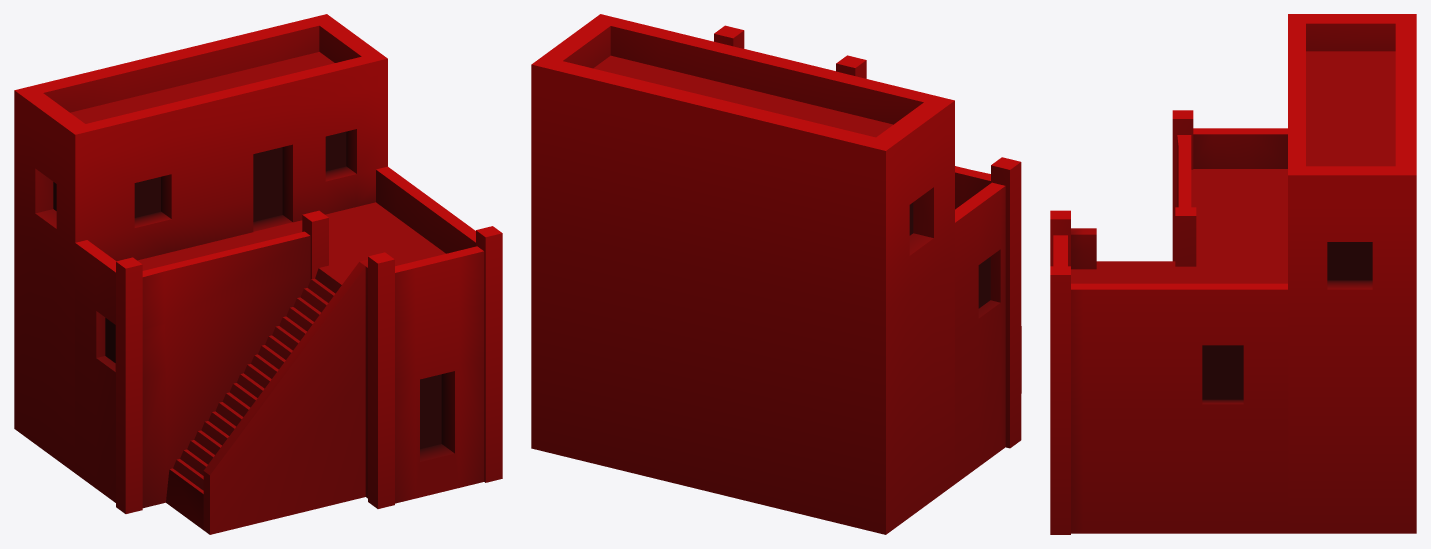
File: buildings-historical-desertbuildingold_v4.fbx
3 views of the same model, side by side, from view 1: azimuth 30°, elevation 25°; view 2: azimuth 150°, elevation 25°; view 3: azimuth 270°, elevation 25° (orthographic). The views are drawn at different scales.
Visible parts, largest first — view 1: DesertBuildingOld_v4; view 2: DesertBuildingOld_v4; view 3: DesertBuildingOld_v4.
Part boxes in pixels (bbox=[...]): DesertBuildingOld_v4: bbox=[14, 14, 502, 534]; DesertBuildingOld_v4: bbox=[531, 14, 1021, 534]; DesertBuildingOld_v4: bbox=[1050, 14, 1416, 534].
Bounding box in the file's own units: 14.96 × 15.17 × 14.06.
